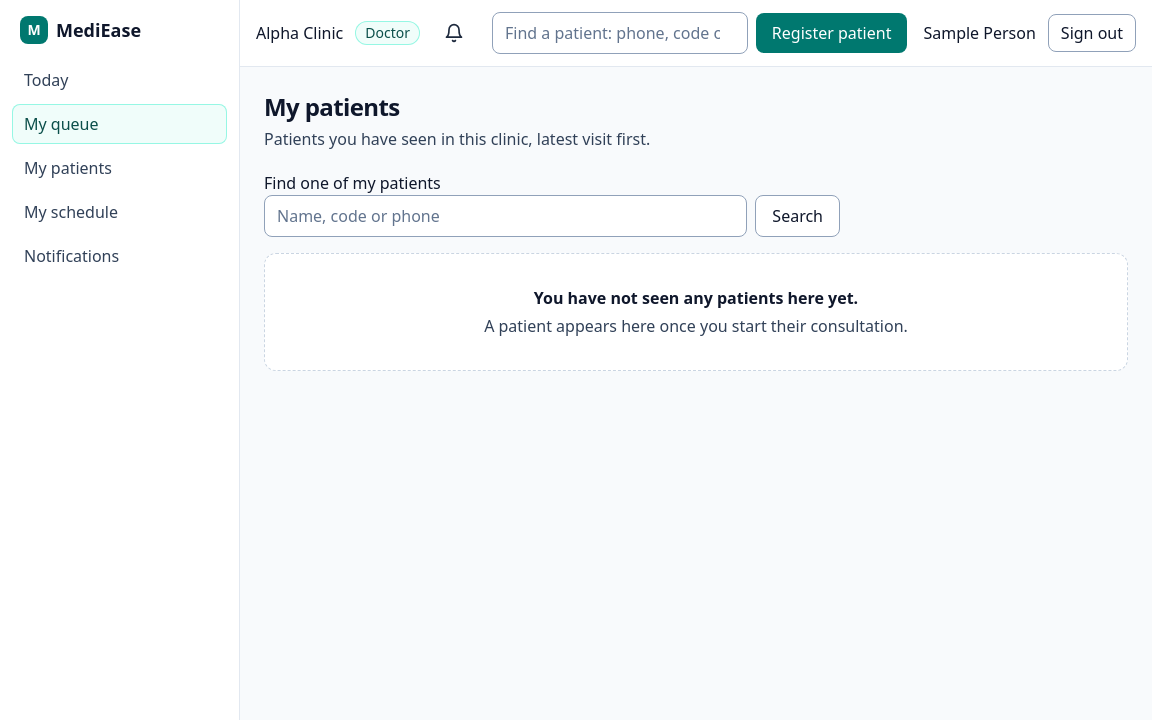
Test: My patients (M6a-P6, decision 5A) › searches within my patients
Expected: the text "You have not seen any patients here yet." is shown, [534,287,858,309]
Type " bin " into the search field labelled "Find one of my patients" at (506, 216), box [264,195,747,237]
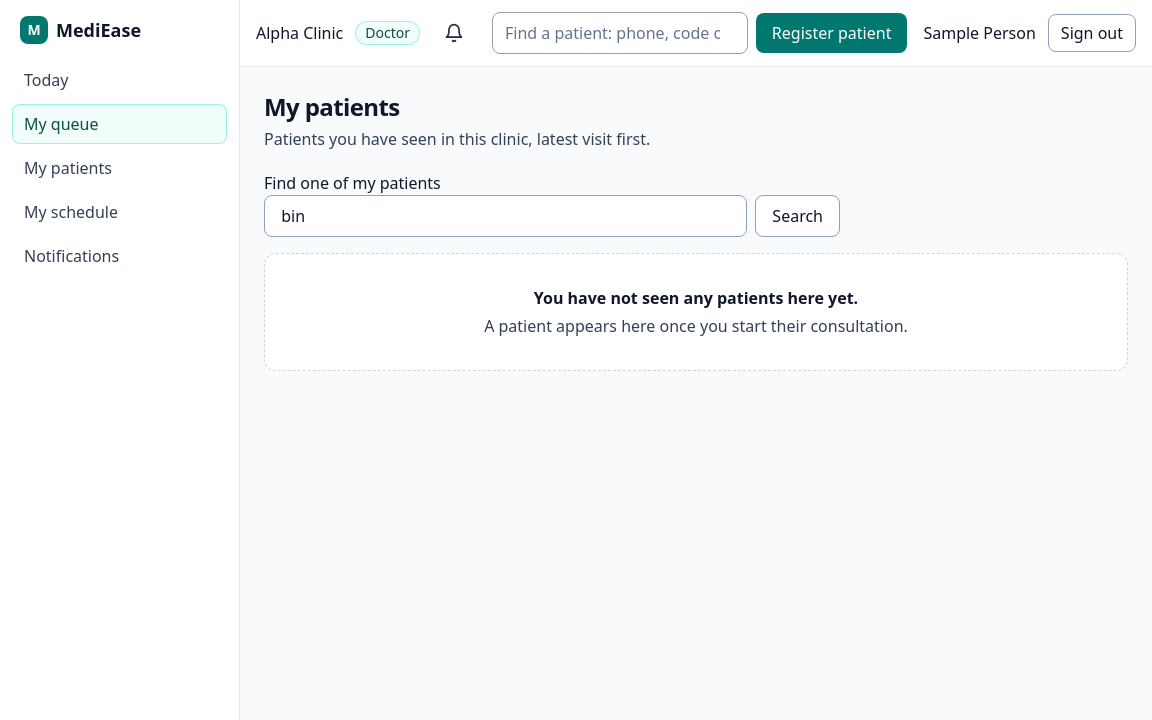
Click the button "Search" at (798, 216), box [755,195,840,237]
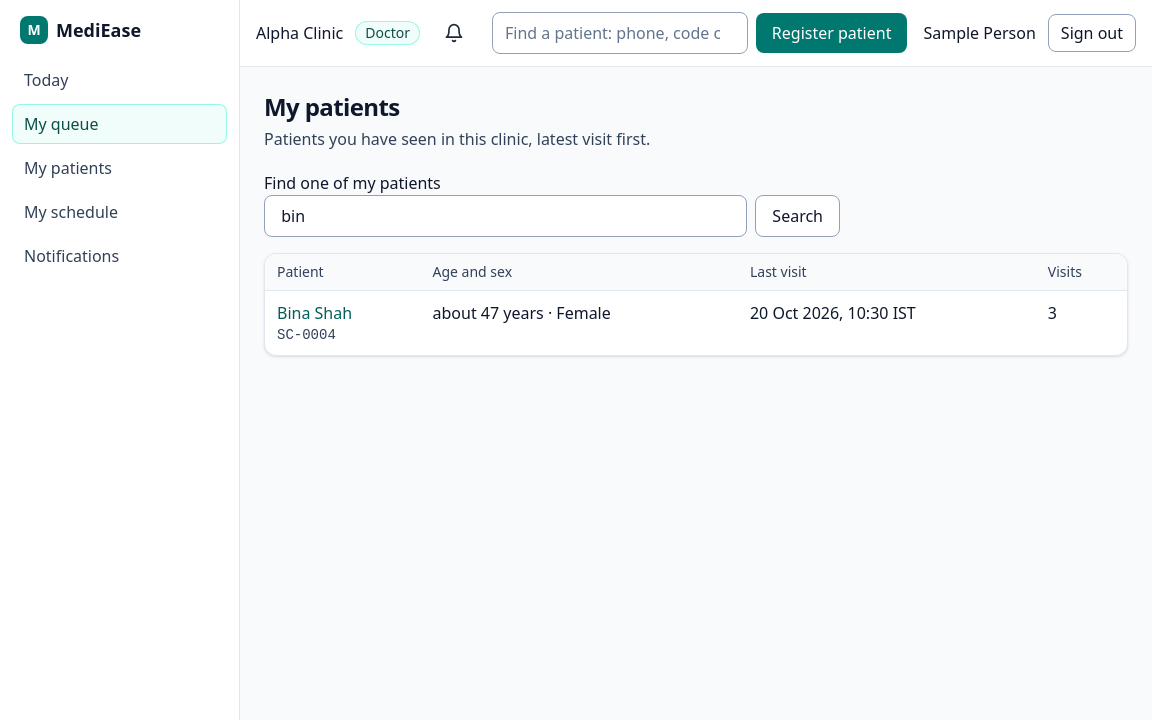
Result: the row "Bina Shah" is shown at [265,291,1127,355]
